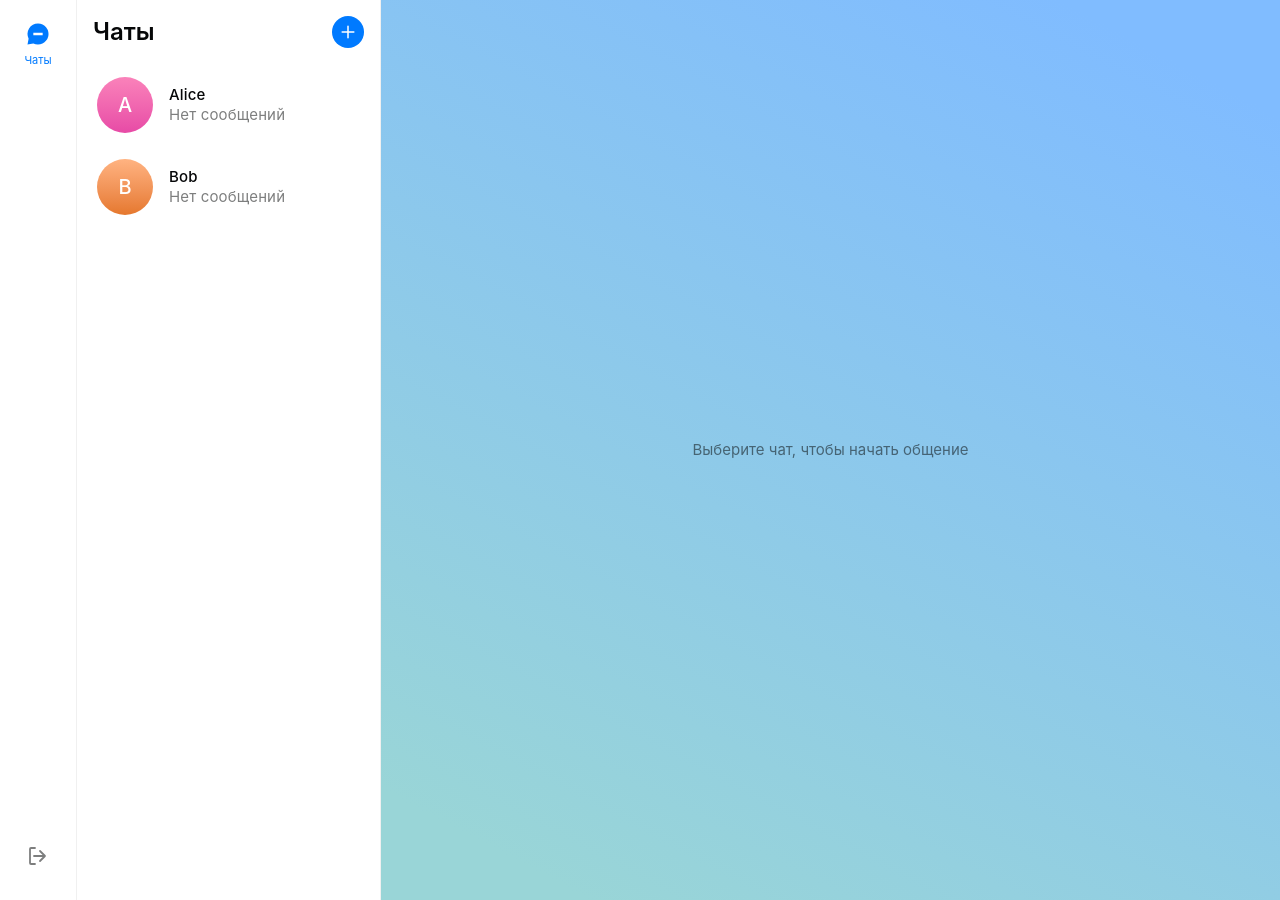
an accepted response adds the message once and clears that draft
The image size is (1280, 900).
Click the button "A Alice Нет сообщений": {"x": 228, "y": 105} x1=77 y1=64 x2=380 y2=146
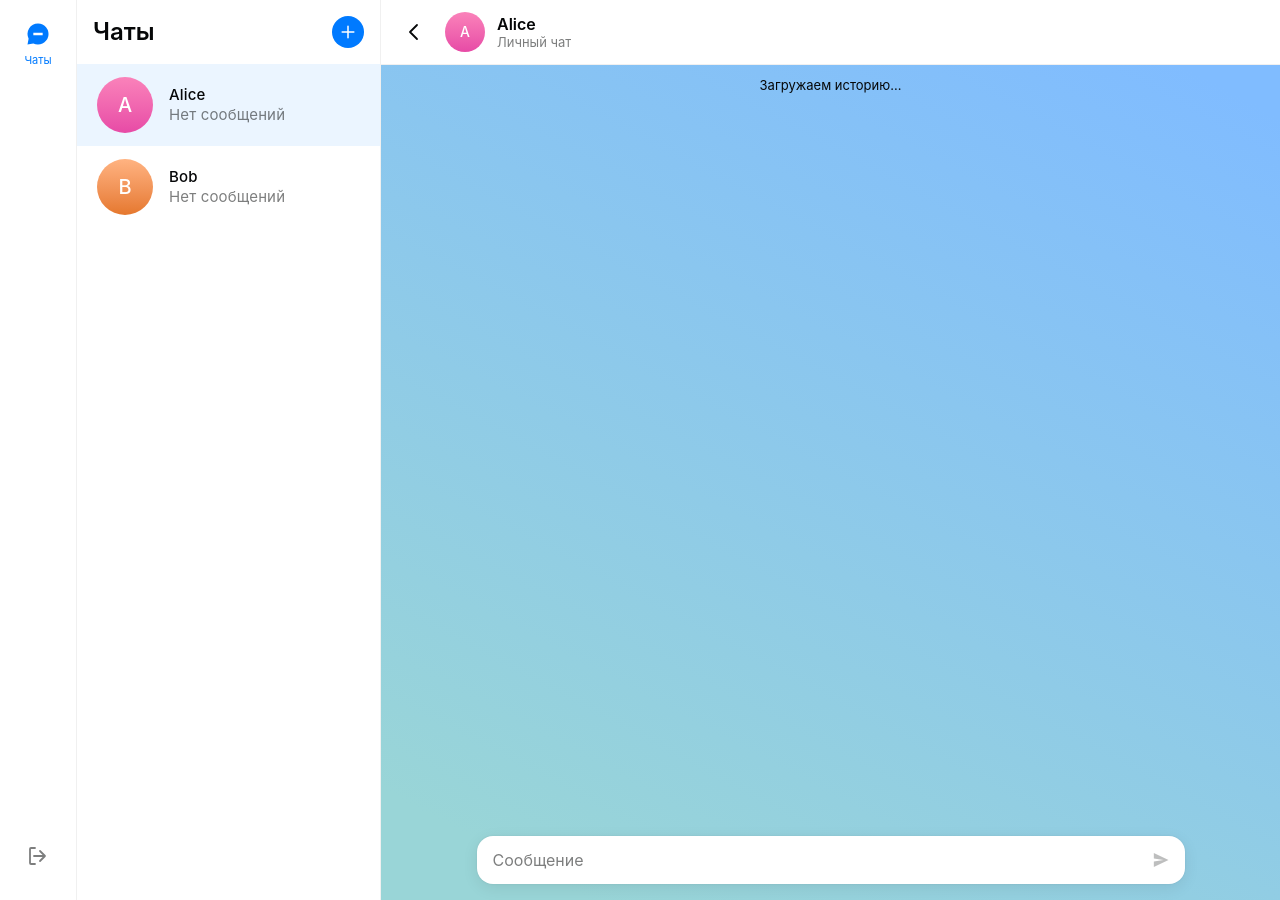
In the text box labelled "Сообщение": {"x": 808, "y": 860} x1=480 y1=840 x2=1136 y2=880, type "hello"
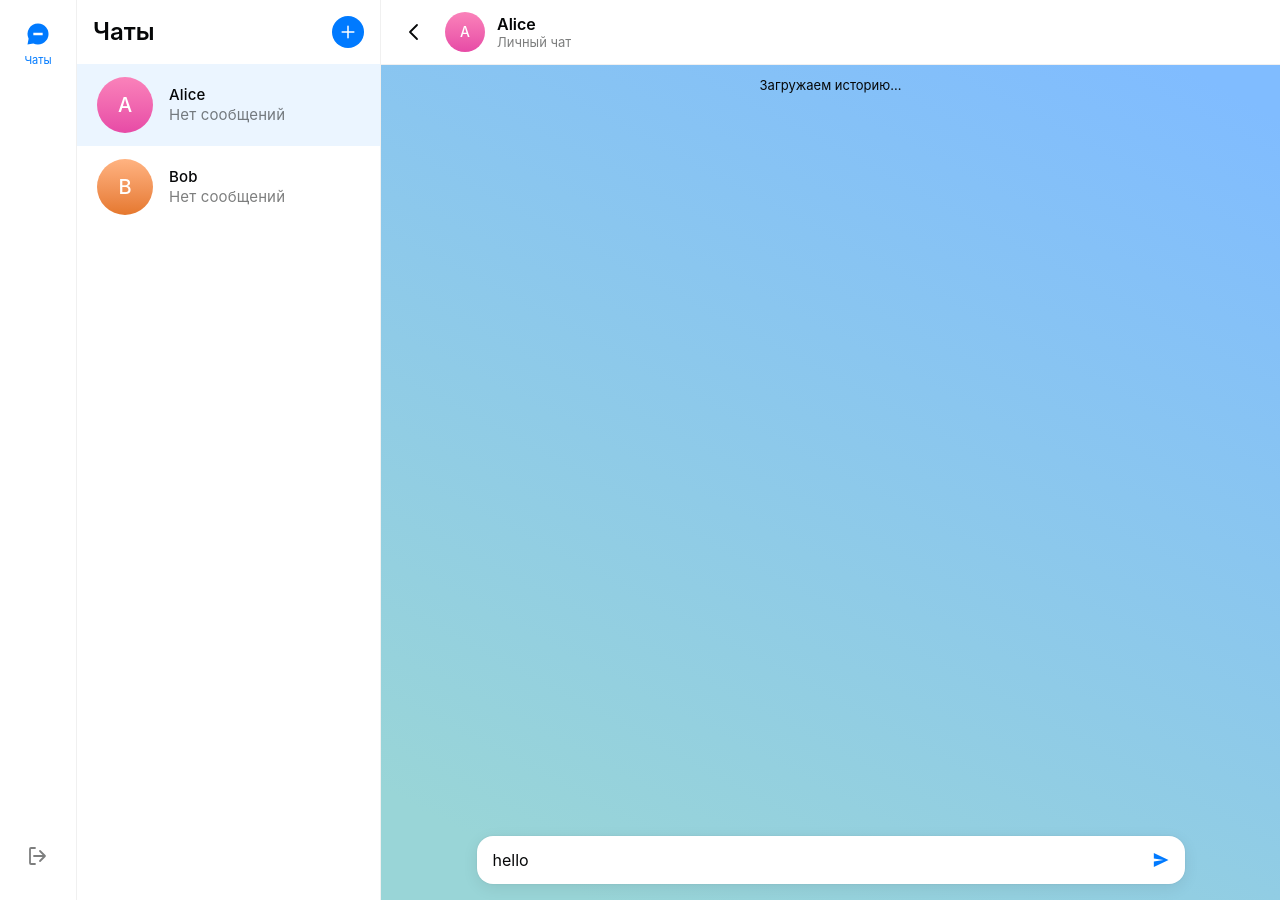
Click the button named "Отправить сообщение": {"x": 1160, "y": 860} x1=1140 y1=840 x2=1180 y2=880
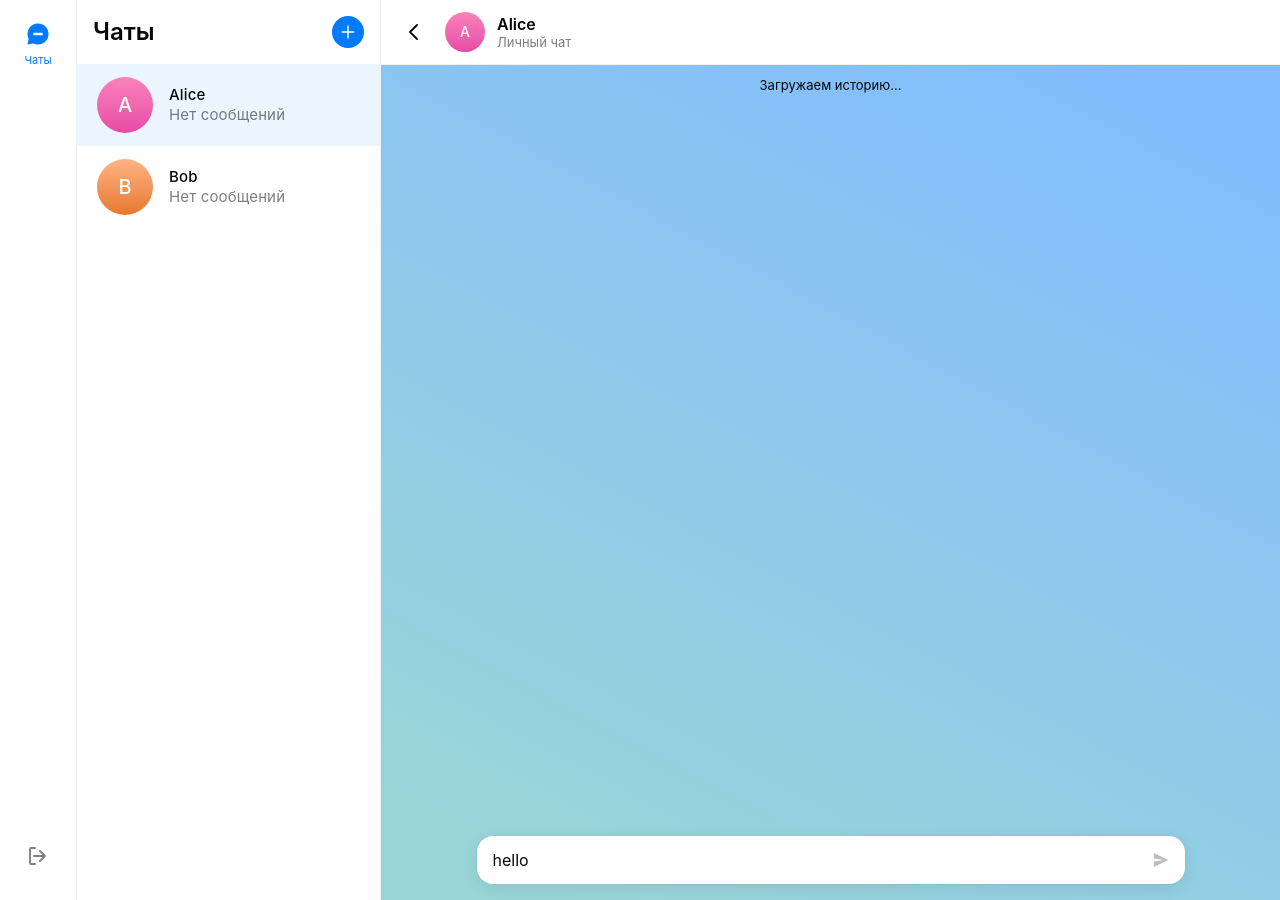
Expected: the button named "Отправить сообщение" is disabled
Click the button named "Отправить сообщение": {"x": 1160, "y": 860} x1=1140 y1=840 x2=1180 y2=880
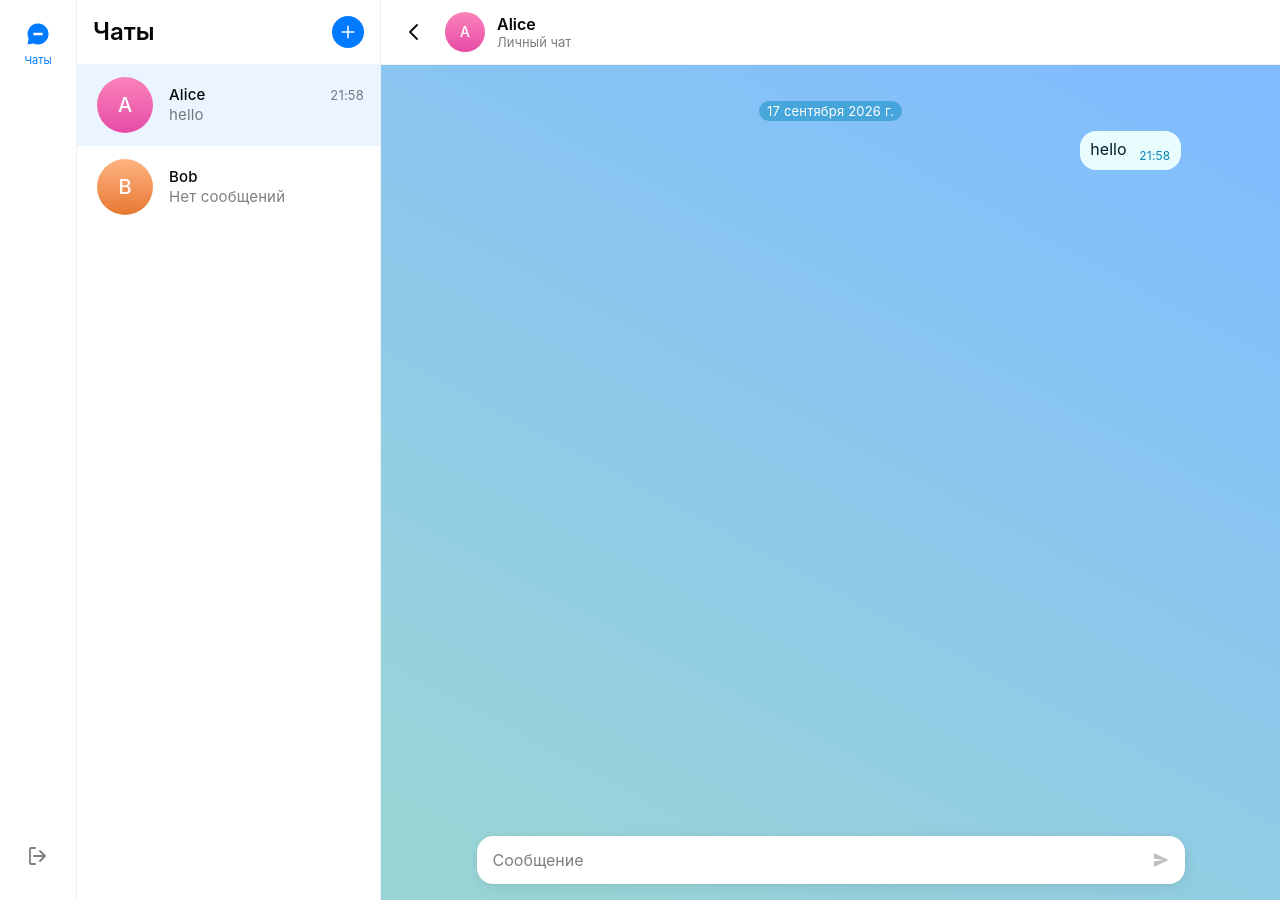
Expected: the text box labelled "Сообщение" is empty, x1=480 y1=840 x2=1136 y2=880
Expected: the message "Загружаем историю…" is gone
